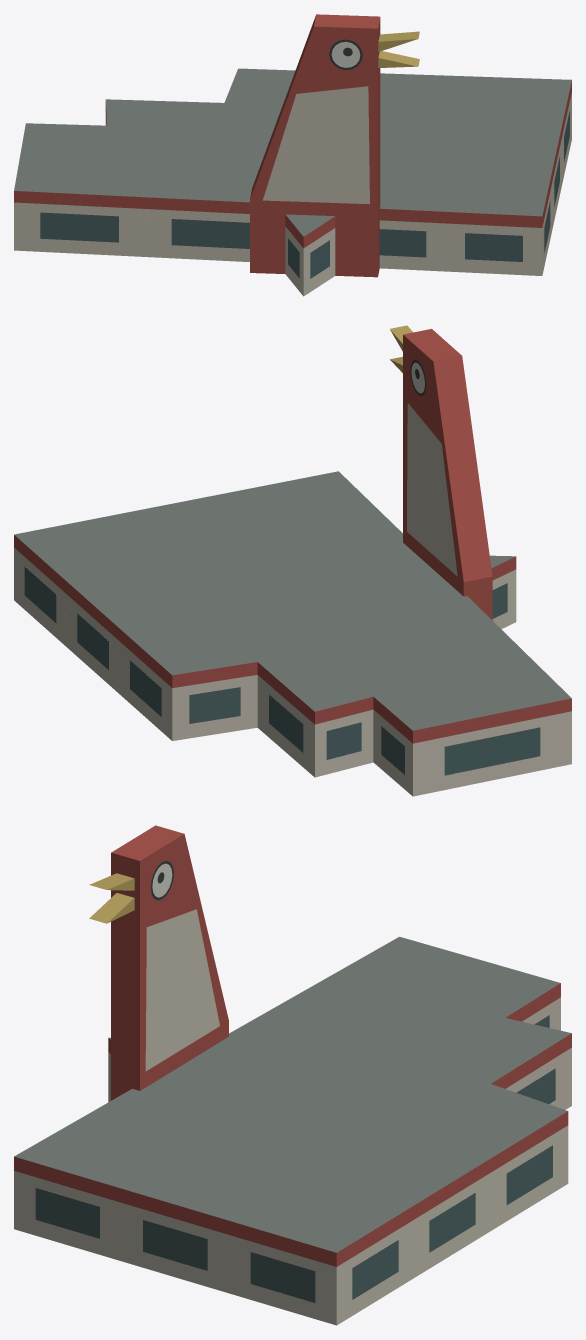
The model's file is big-chicken-marietta-far.glb.
3 views of the same model, one above another, from view 1: azimuth 30°, elevation 25°; view 2: azimuth 150°, elevation 25°; view 3: azimuth 270°, elevation 25° (orthographic). The views are drawn at different scales.
Parts seen in each view (by area): view 1: big-chicken-marietta-0-roof, big-chicken-marietta-0-stone, big-chicken-marietta-0-brick, big-chicken-marietta-0-glass, big-chicken-marietta-0-gold, big-chicken-marietta-0-white; view 2: big-chicken-marietta-0-roof, big-chicken-marietta-0-stone, big-chicken-marietta-0-brick, big-chicken-marietta-0-glass; view 3: big-chicken-marietta-0-roof, big-chicken-marietta-0-stone, big-chicken-marietta-0-brick, big-chicken-marietta-0-glass, big-chicken-marietta-0-gold.
Boxes of the visible parts, bbox=[...] form: big-chicken-marietta-0-roof: bbox=[14, 68, 571, 236]; big-chicken-marietta-0-stone: bbox=[14, 86, 571, 296]; big-chicken-marietta-0-brick: bbox=[14, 14, 571, 277]; big-chicken-marietta-0-glass: bbox=[40, 110, 569, 278]; big-chicken-marietta-0-gold: bbox=[378, 31, 419, 67]; big-chicken-marietta-0-white: bbox=[331, 41, 360, 67]; big-chicken-marietta-0-roof: bbox=[14, 471, 571, 730]; big-chicken-marietta-0-stone: bbox=[14, 403, 571, 796]; big-chicken-marietta-0-brick: bbox=[14, 329, 571, 743]; big-chicken-marietta-0-glass: bbox=[24, 567, 540, 775]; big-chicken-marietta-0-roof: bbox=[14, 936, 571, 1252]; big-chicken-marietta-0-stone: bbox=[14, 909, 571, 1325]; big-chicken-marietta-0-brick: bbox=[14, 825, 571, 1266]; big-chicken-marietta-0-glass: bbox=[35, 1015, 555, 1302]; big-chicken-marietta-0-gold: bbox=[89, 873, 134, 923].
Size of the model in its own units: 38.25 by 17.07 by 28.52.
